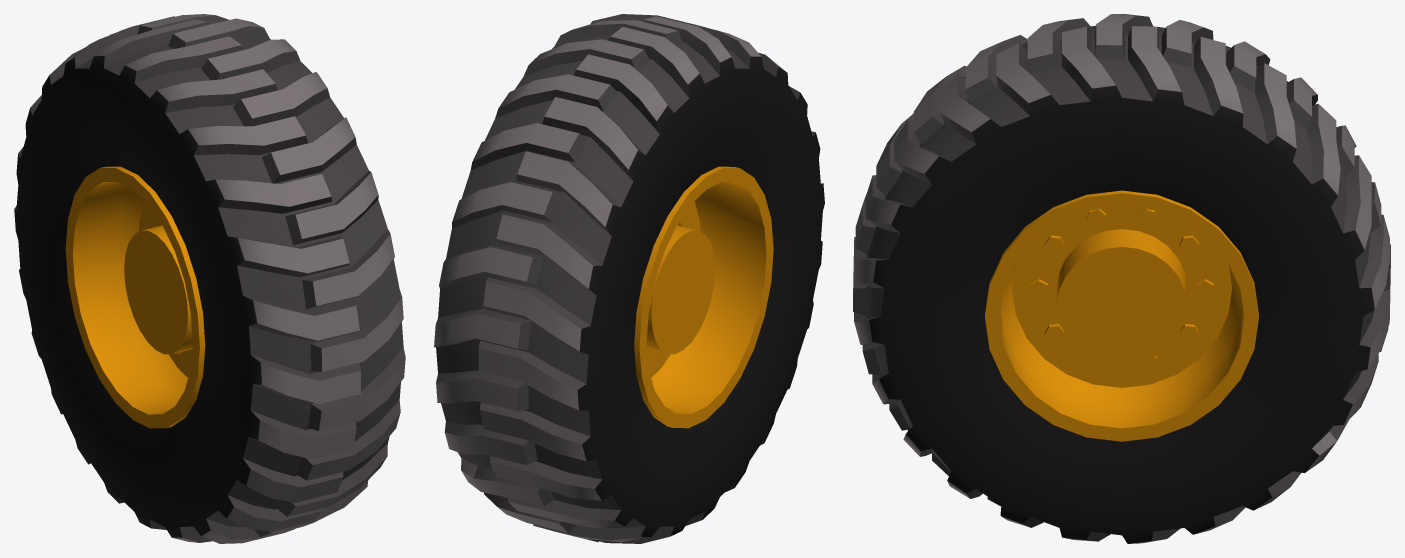
The model's file is Backhoe_FrontWheel_01.fbx.
3 views of the same model, side by side, from view 1: azimuth 30°, elevation 25°; view 2: azimuth 150°, elevation 25°; view 3: azimuth 270°, elevation 25° (orthographic). The views are drawn at different scales.
Parts seen in each view (by area): view 1: BackhoeFrontWheel_01_LOD0_low; view 2: BackhoeFrontWheel_01_LOD0_low; view 3: BackhoeFrontWheel_01_LOD0_low.
Part boxes in pixels (<box>): BackhoeFrontWheel_01_LOD0_low: <box>14,14,405,543</box>; BackhoeFrontWheel_01_LOD0_low: <box>434,14,824,543</box>; BackhoeFrontWheel_01_LOD0_low: <box>853,14,1390,543</box>.
Size of the model in its own units: 0.3234 by 0.9376 by 0.9376.
